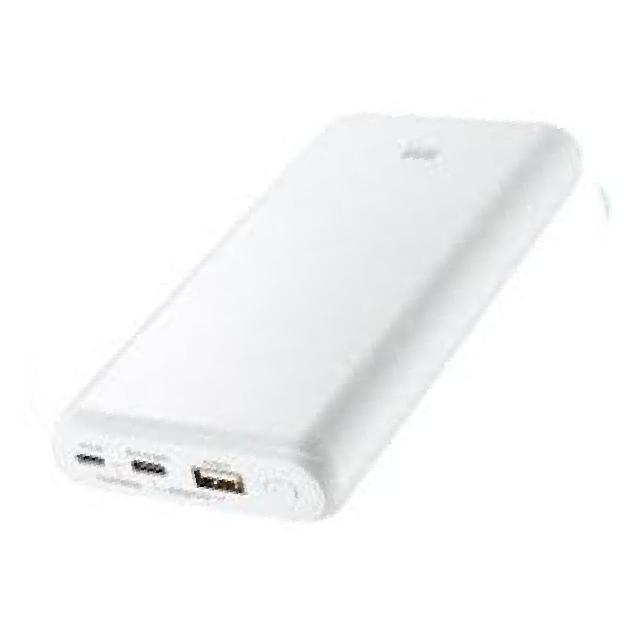Battery: (39, 94, 594, 524)
